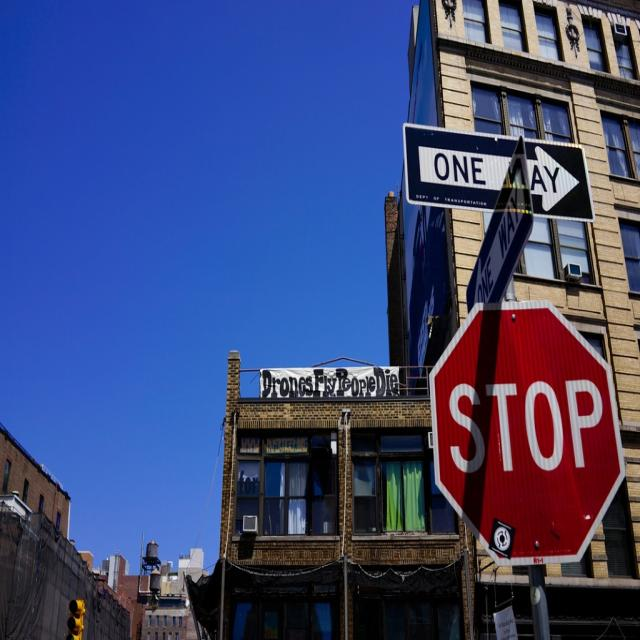Stop-sign: (428, 298, 627, 567)
